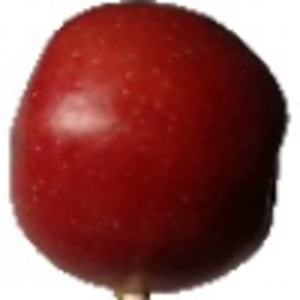maçã braeburn: (9, 1, 290, 290)
